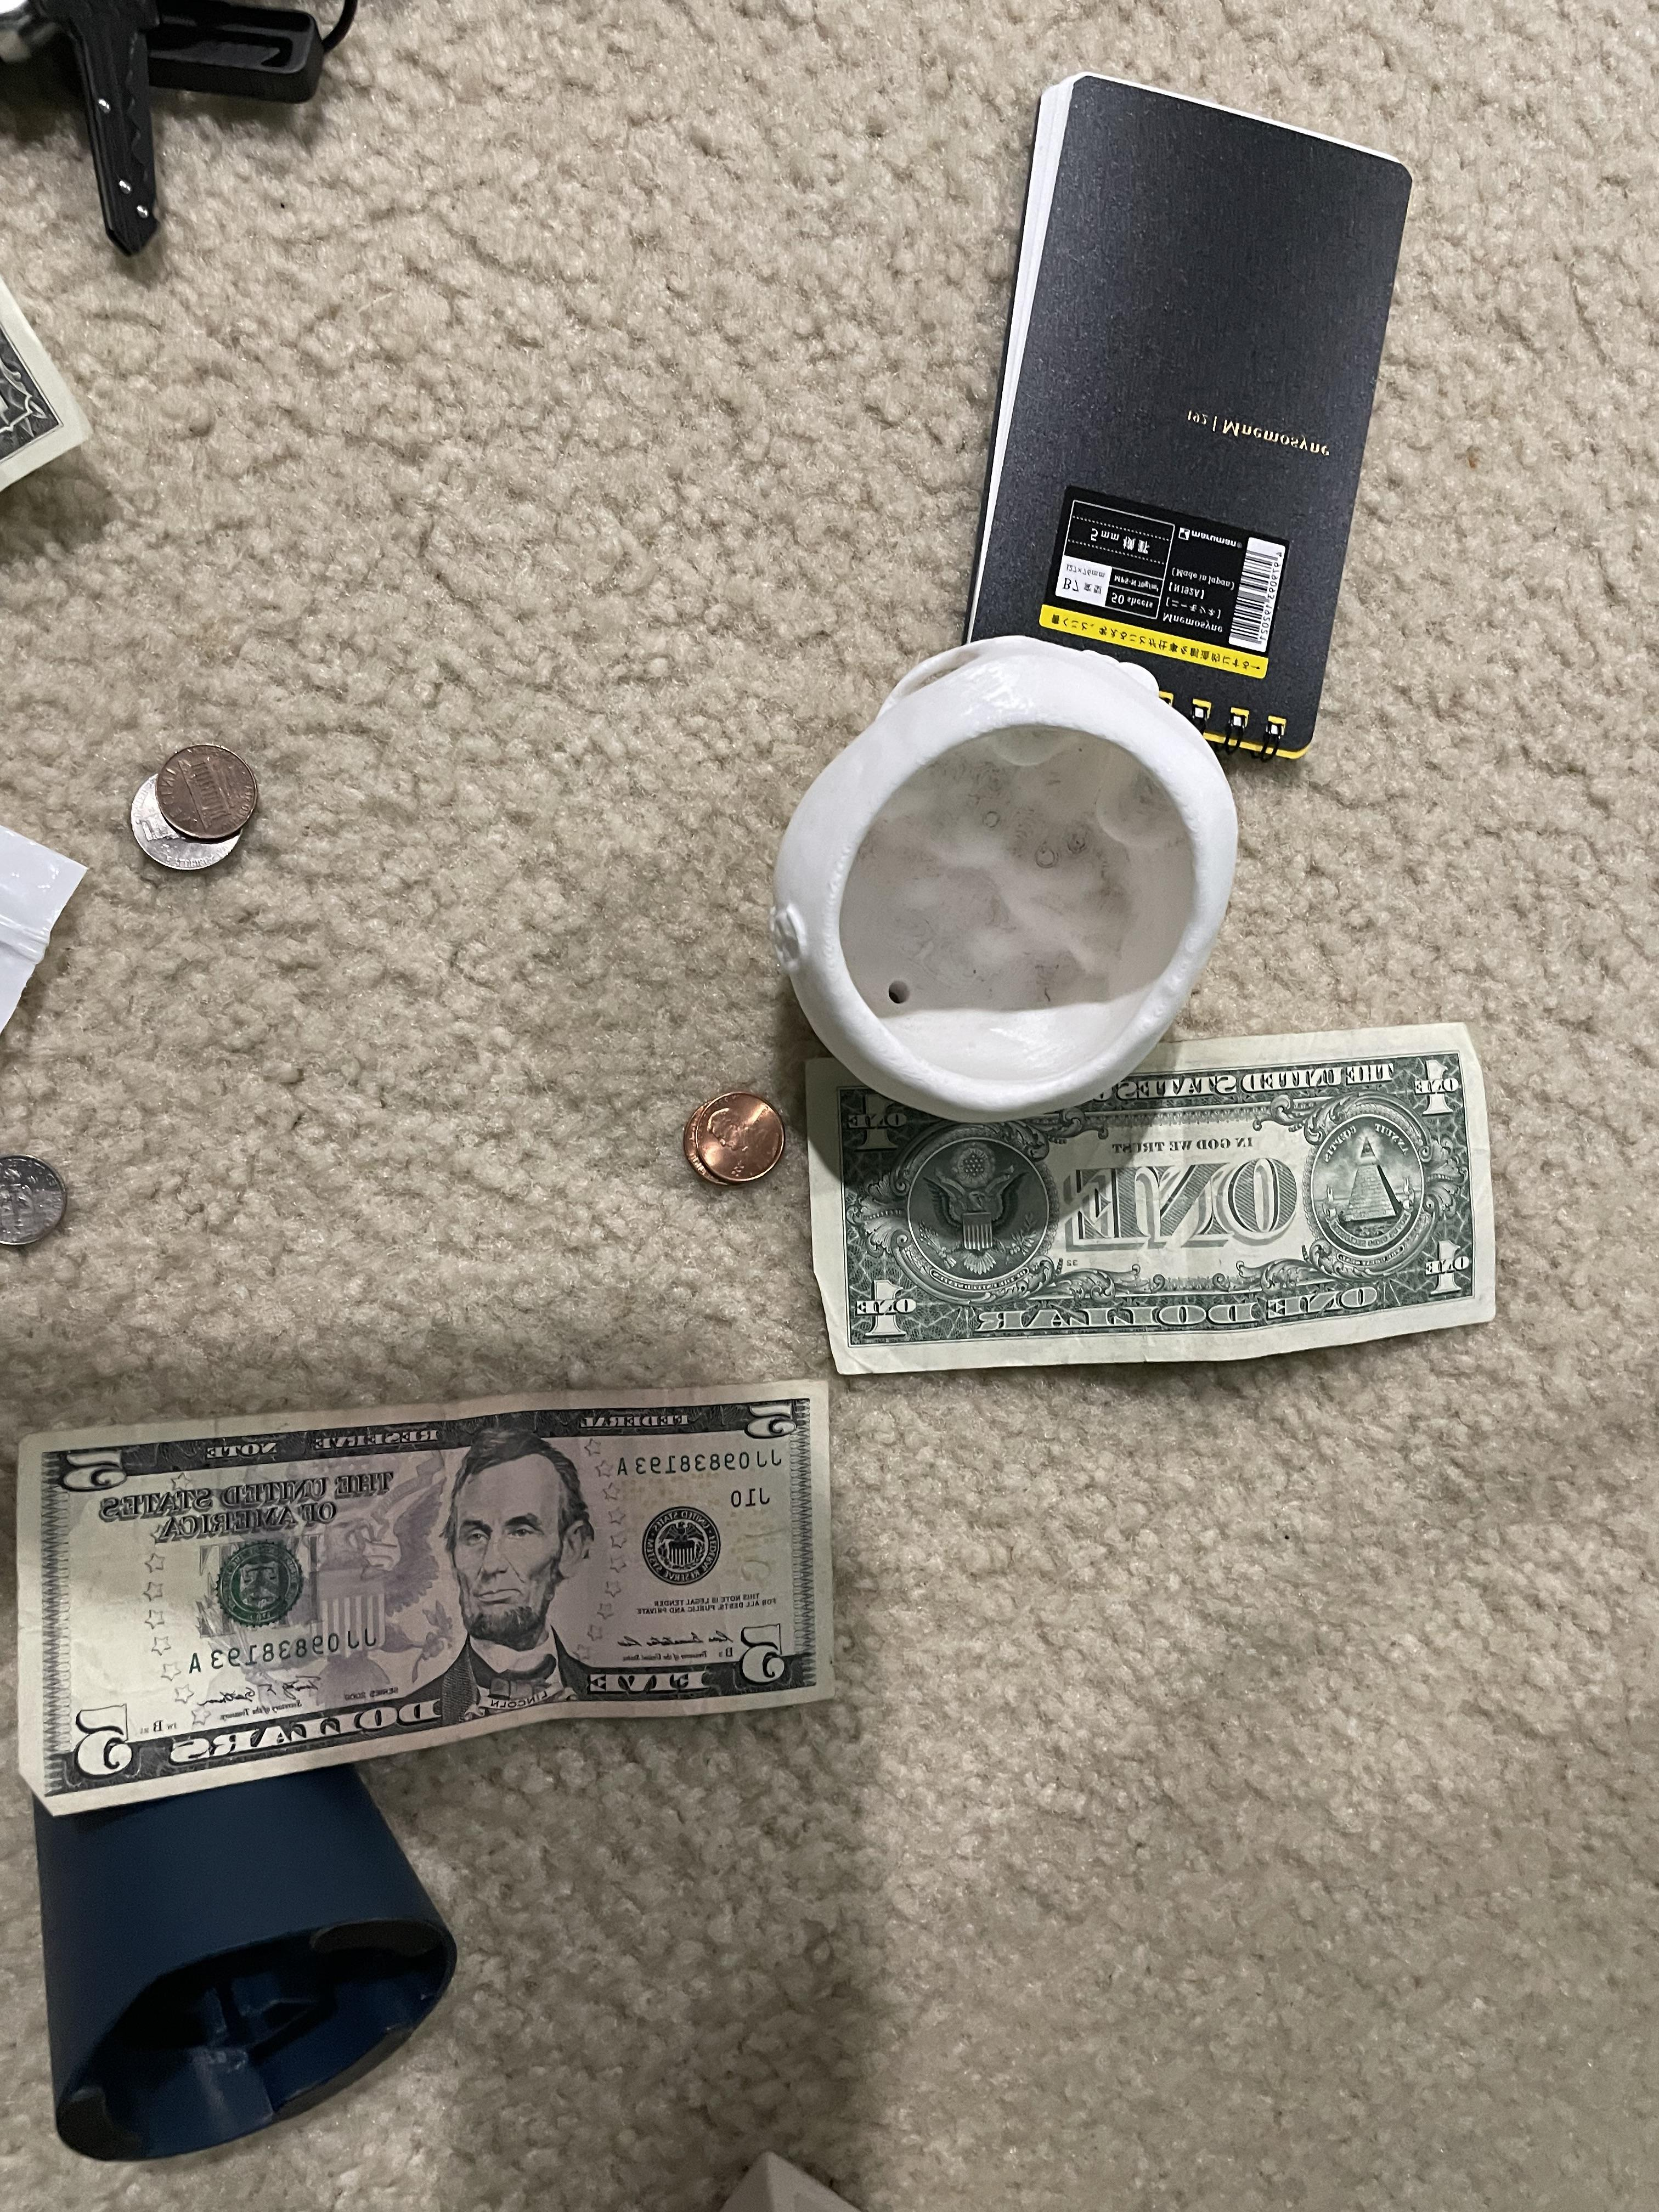FiveBill: (75, 1413, 835, 1801)
OneBill: (777, 1010, 1509, 1383)
Penny: (159, 728, 256, 848), (699, 1096, 788, 1197)
